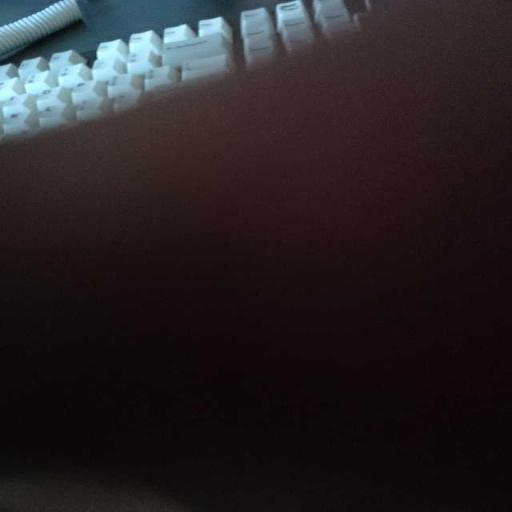person: (0, 2, 511, 510)
